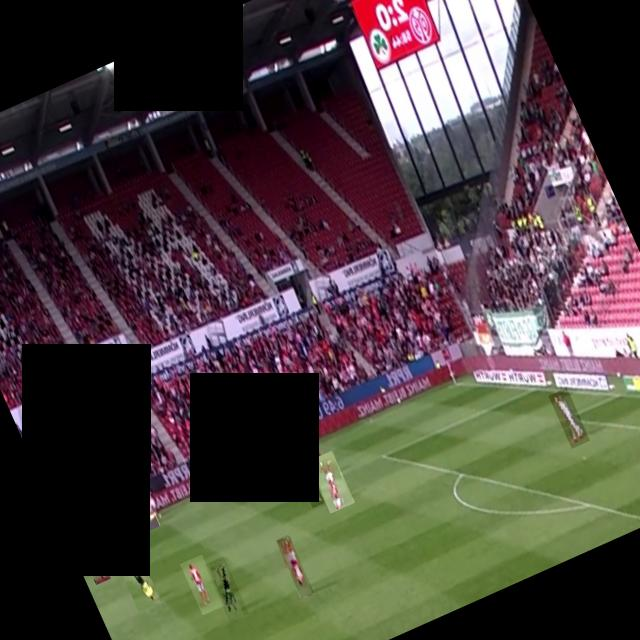goalkeeper: (548, 388, 590, 448)
referee: (118, 554, 161, 612)
soccer-player: (308, 451, 356, 514), (204, 556, 249, 622), (180, 554, 225, 615), (276, 534, 314, 598), (74, 540, 114, 582), (239, 446, 274, 494), (129, 486, 161, 532), (294, 461, 325, 508), (90, 512, 125, 546)
